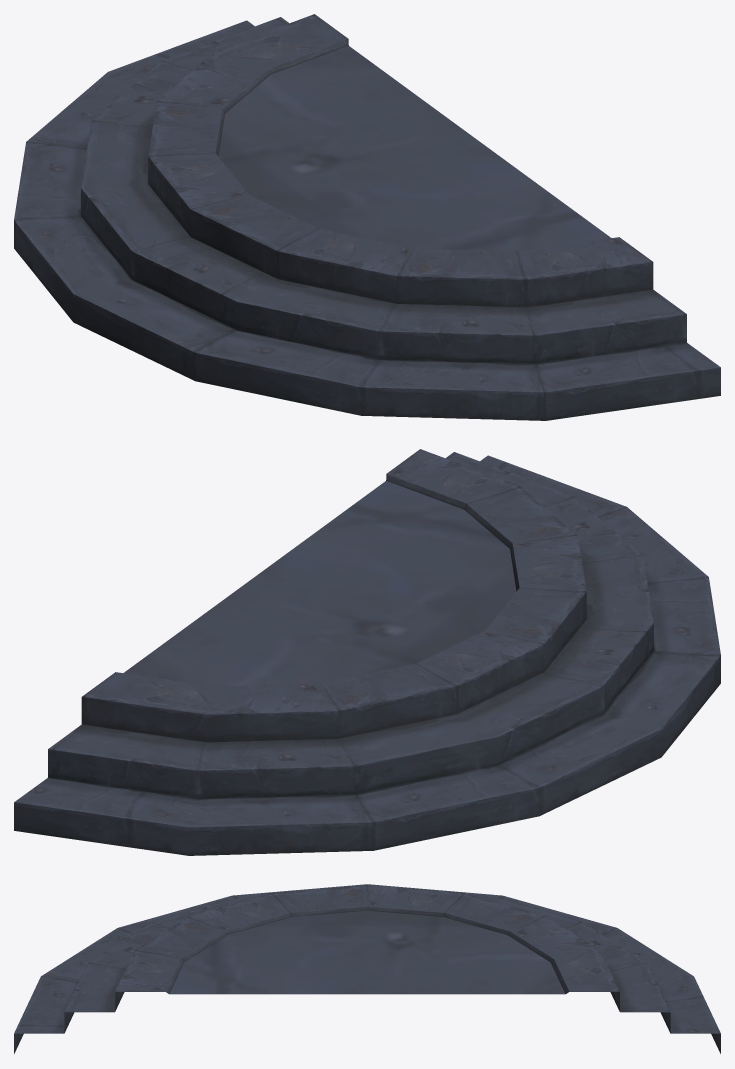
Rendered from sn_shengdi_baseframe_005.FBX.
3 renders of one model, top to bottom at view 1: azimuth 30°, elevation 25°; view 2: azimuth 150°, elevation 25°; view 3: azimuth 270°, elevation 25°, orthographic. The views are drawn at different scales.
Visible parts, largest first — view 1: sn_shengdi_baseframe_005; view 2: sn_shengdi_baseframe_005; view 3: sn_shengdi_baseframe_005.
Part boxes in pixels (x1=…): sn_shengdi_baseframe_005: x1=14, y1=14, x2=720, y2=420; sn_shengdi_baseframe_005: x1=14, y1=449, x2=720, y2=855; sn_shengdi_baseframe_005: x1=14, y1=884, x2=720, y2=1053.
Size of the model in its own units: 807 by 1614 by 159.
